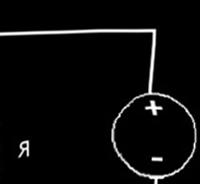Battery: (97, 81, 198, 183)
